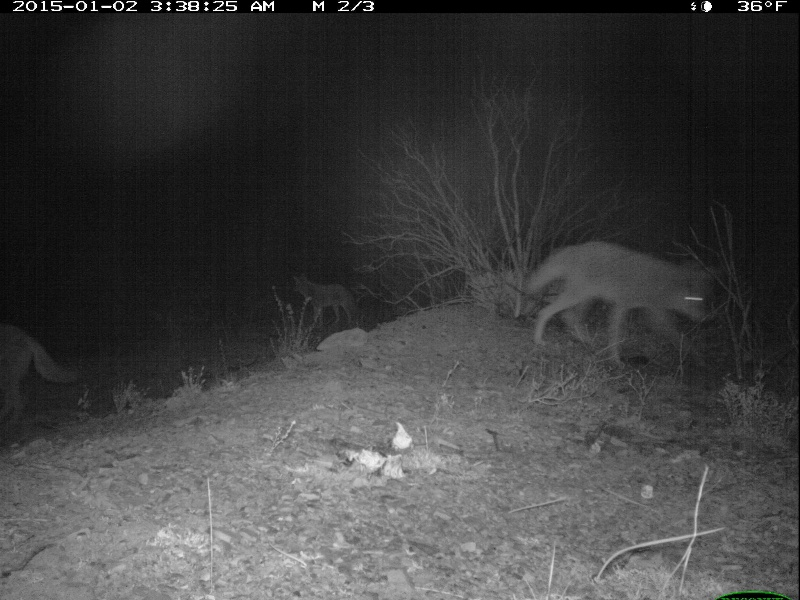coyote: (521, 238, 721, 372), (1, 314, 78, 428), (293, 267, 361, 329)
